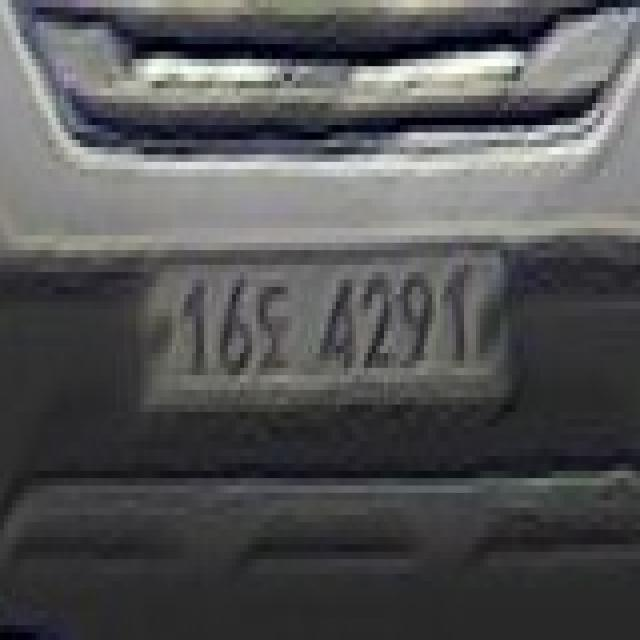1: (176, 265, 216, 390), (436, 265, 476, 382)
2: (356, 272, 400, 383)
4: (324, 272, 360, 390)
6: (220, 265, 256, 382)
9: (400, 258, 436, 382)
do: (256, 265, 296, 382)
license_plate: (128, 235, 532, 427)
